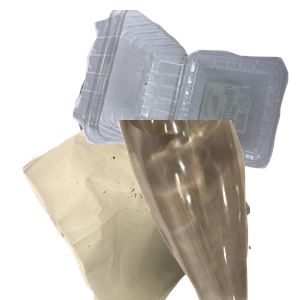glass: (115, 120, 300, 300)
metal: (73, 42, 277, 212)
plastic: (70, 10, 300, 171)
trash: (20, 120, 260, 300)
